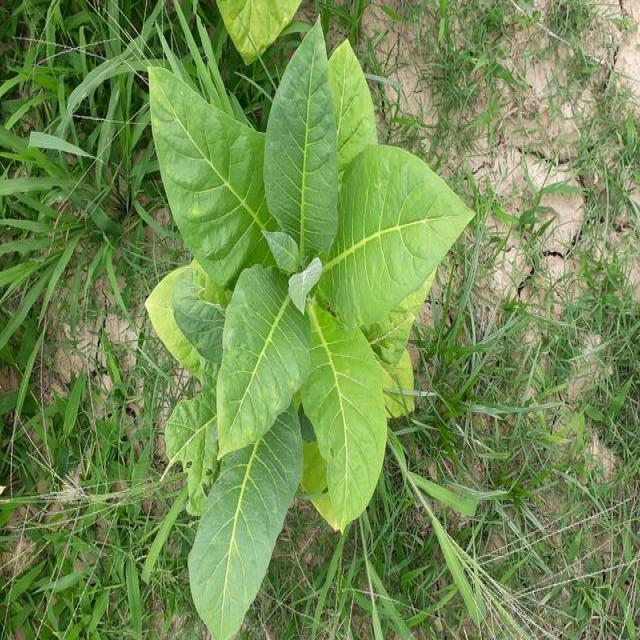crop: (136, 41, 454, 630), (210, 0, 318, 72)
